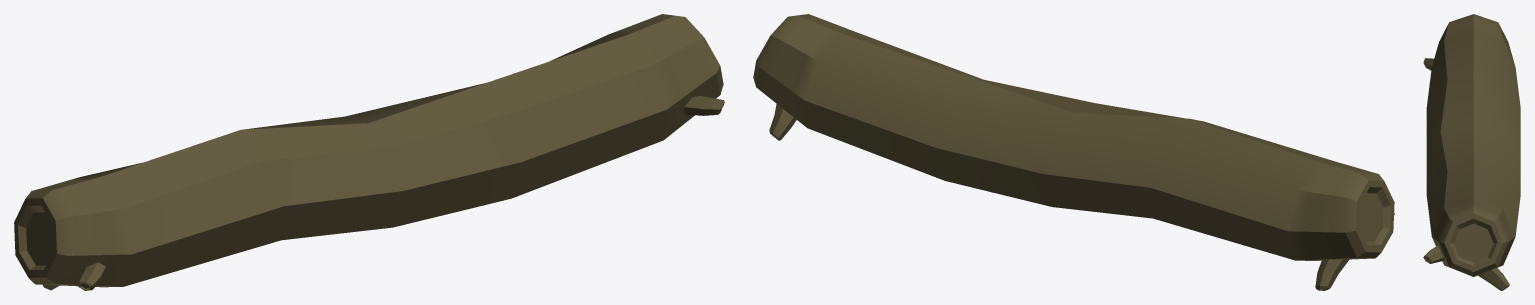
Rendered from Tronco.fbx.
The picture shows the model from 3 angles, left to right: view 1: azimuth 30°, elevation 25°; view 2: azimuth 150°, elevation 25°; view 3: azimuth 270°, elevation 25°; orthographic projection. The views are drawn at different scales.
Parts seen in each view (by area): view 1: Tronco; view 2: Tronco; view 3: Tronco.
Part boxes in pixels (x1,y1,x2,y2): Tronco: (14, 14, 724, 290); Tronco: (753, 14, 1394, 290); Tronco: (1423, 14, 1520, 290).
Size of the model in its own units: 11.43 by 2.27 by 2.05.
